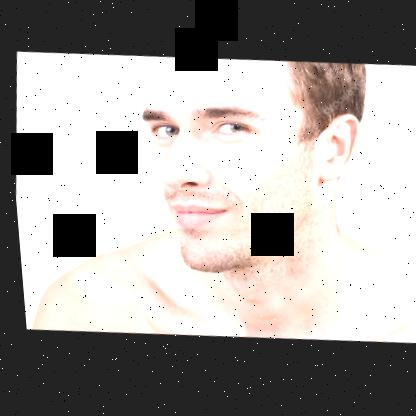Male: (122, 48, 371, 287)
